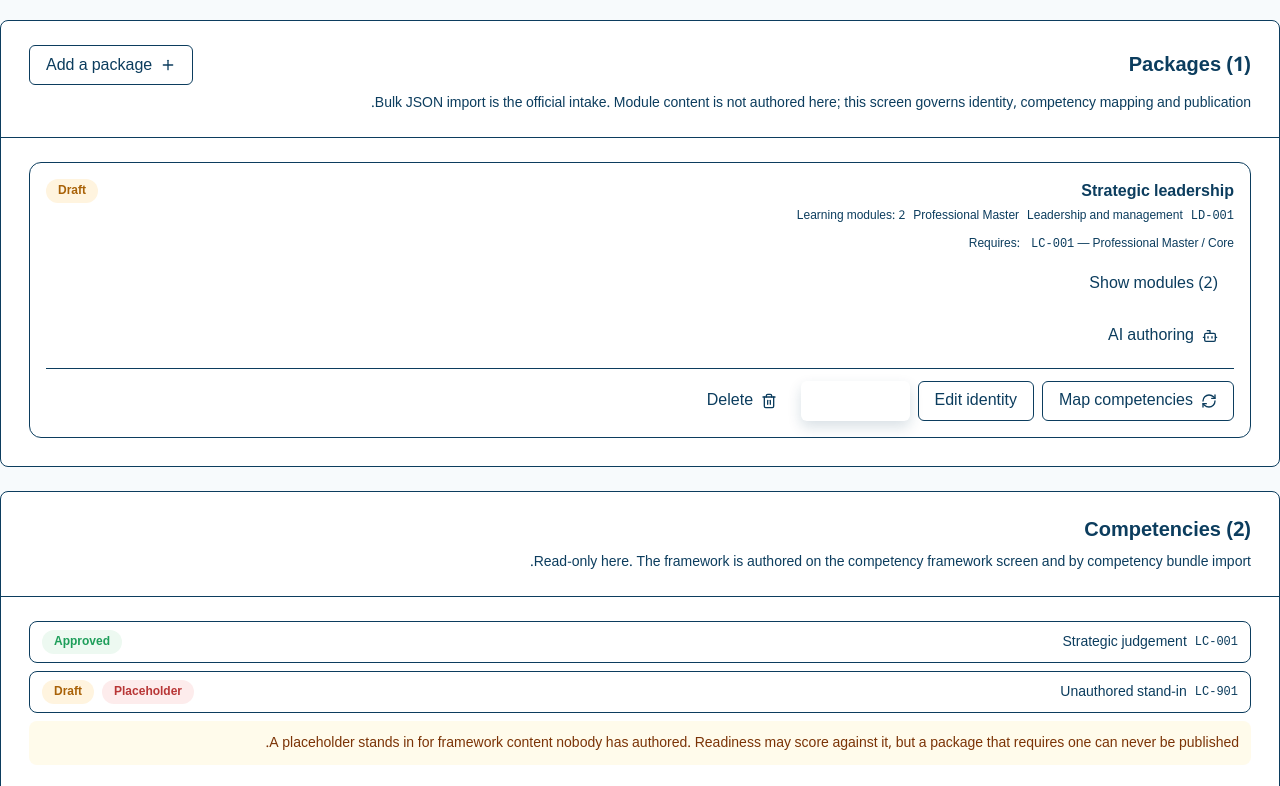
AcademicLibraryPage › answers ACADEMIC_PACKAGE_DECLARES_NOTHING with the sentence for that code
(page scrolled)
Click the button "Publish" at [855, 401], box [801,381,910,421]
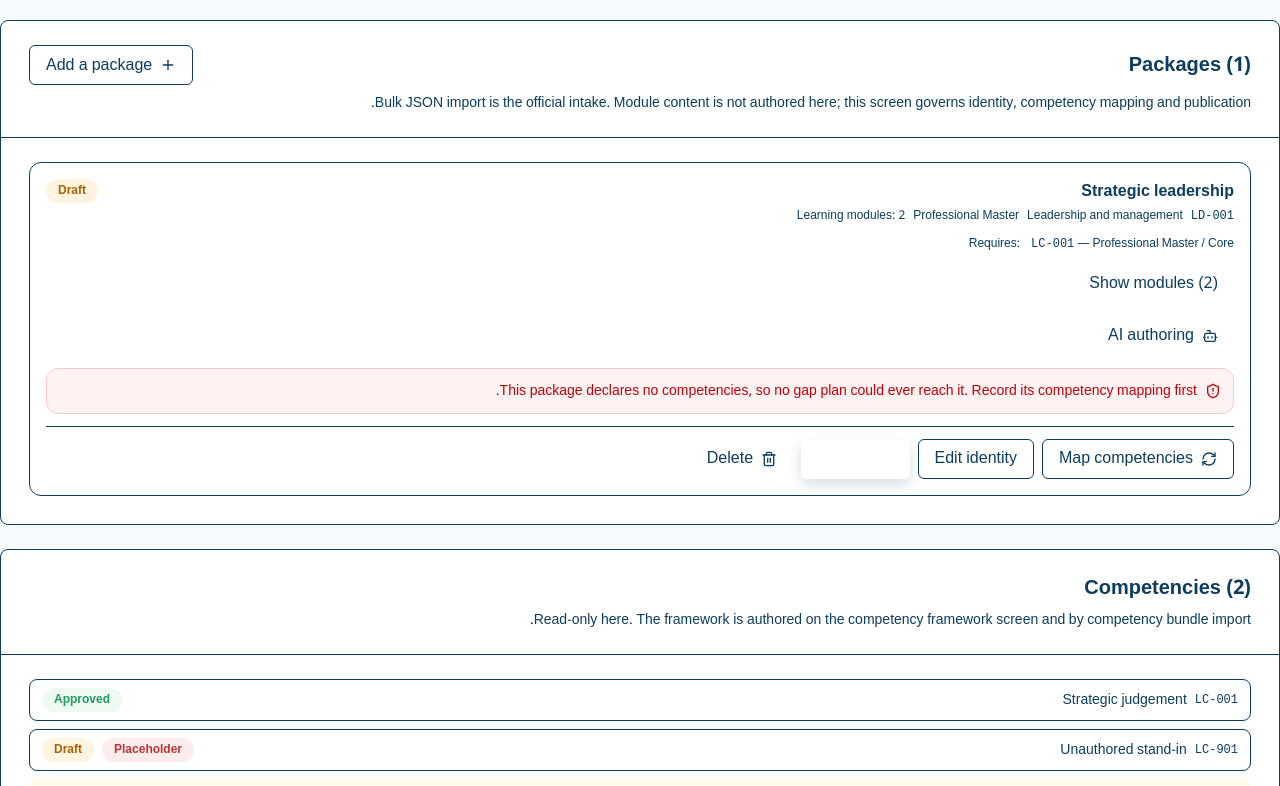
Check: the text "no gap plan could ever reach it" is shown, box [496,376,1197,405]
